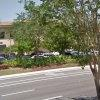Tree: (26, 1, 100, 73)
